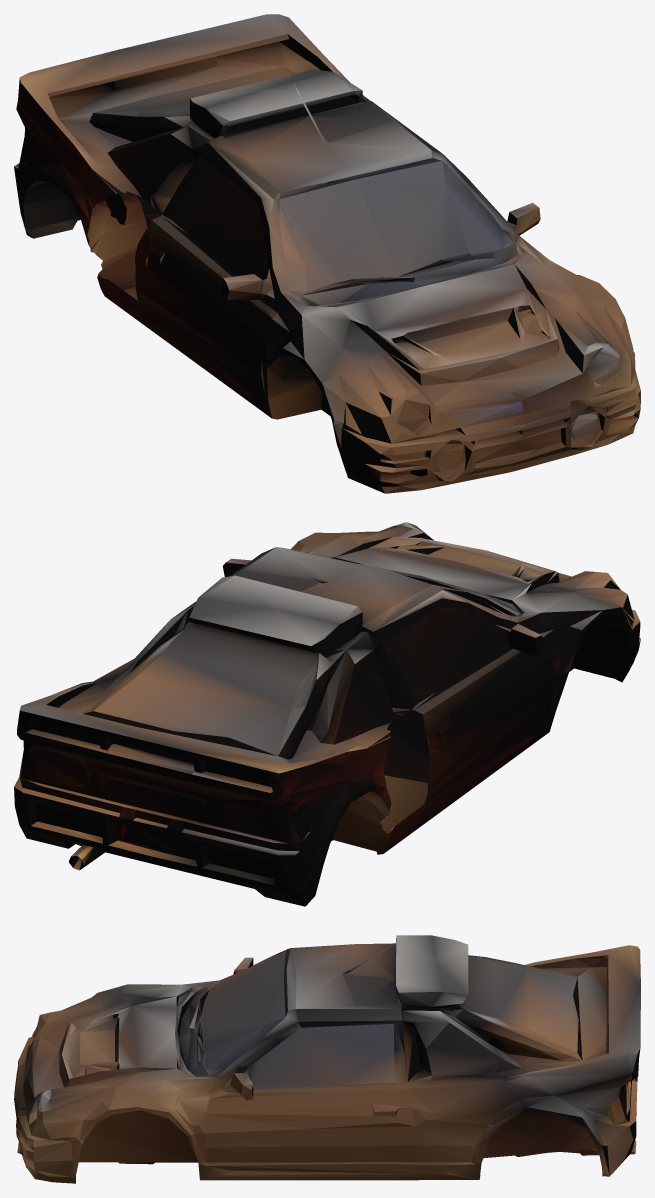
File: ford_rs200.glb
The picture shows the model from 3 angles, top to bottom: view 1: azimuth 30°, elevation 25°; view 2: azimuth 150°, elevation 25°; view 3: azimuth 270°, elevation 25°; orthographic projection. The views are drawn at different scales.
Visible parts, largest first — view 1: Wreck_ford_rs200; view 2: Wreck_ford_rs200; view 3: Wreck_ford_rs200.
Boxes of the visible parts, x1=… form: Wreck_ford_rs200: x1=14, y1=14, x2=640, y2=493; Wreck_ford_rs200: x1=14, y1=522, x2=640, y2=906; Wreck_ford_rs200: x1=14, y1=935, x2=640, y2=1183.
Size of the model in its own units: 1.95 by 1.34 by 4.
